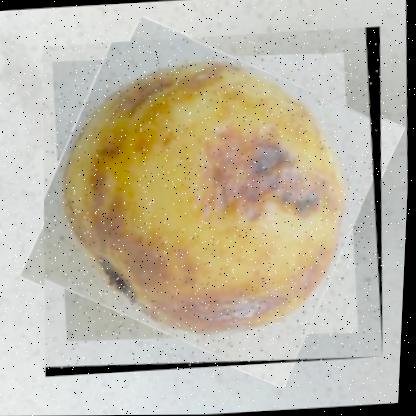guava_rotten: (30, 26, 397, 377)
